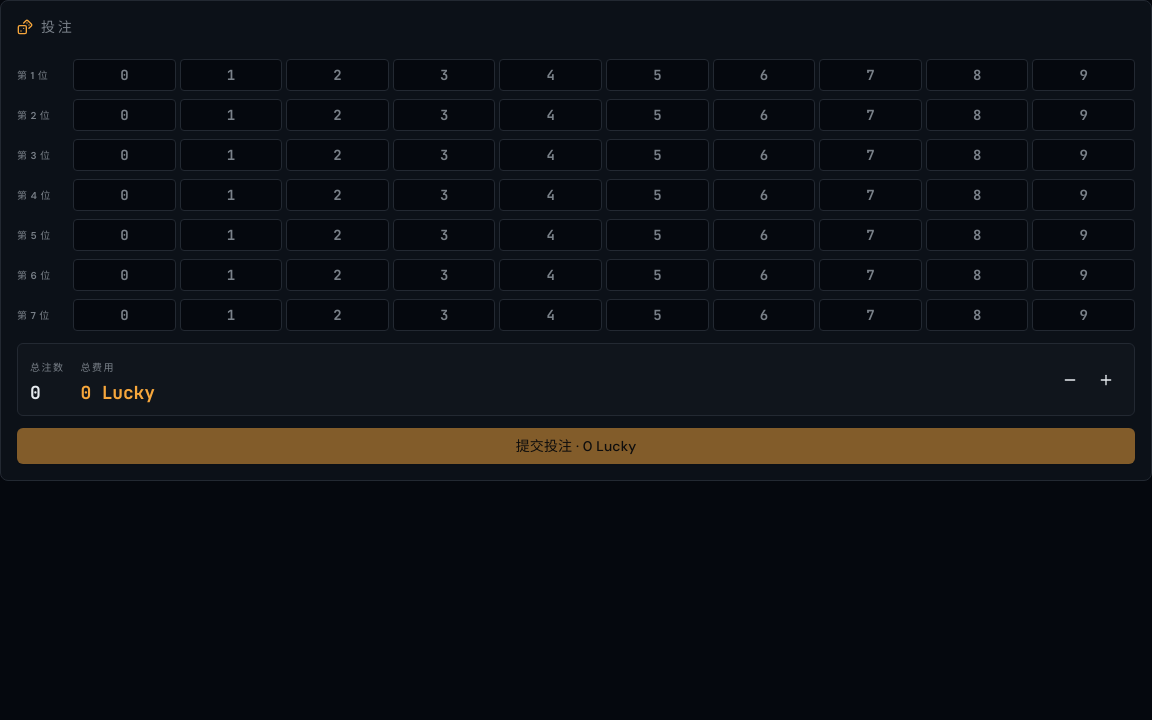
Scenario: BetForm complex-betting characterization (cap-independent invariants) › clears a filled selection back to zero tickets
This screenshot has width=1152, height=720.
Click the button with test id "bet.fill_button": (1106, 380) [1090, 364, 1122, 396]
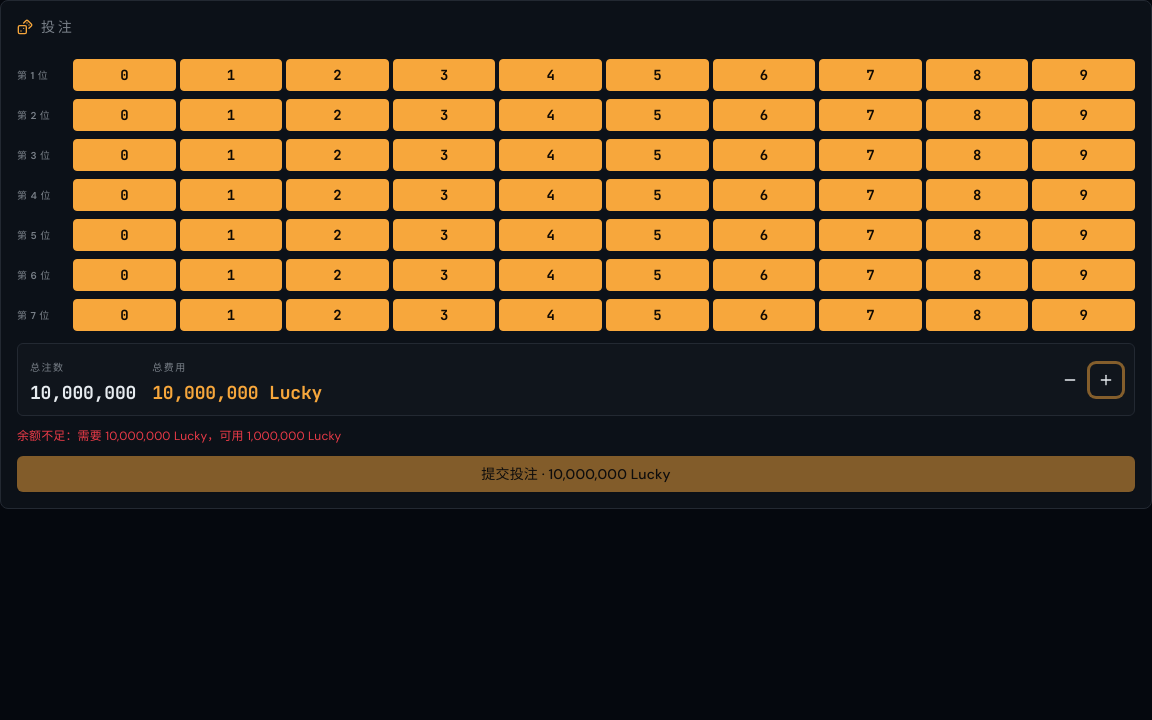
Click the button with test id "bet.clear_button": (1070, 380) [1054, 364, 1086, 396]
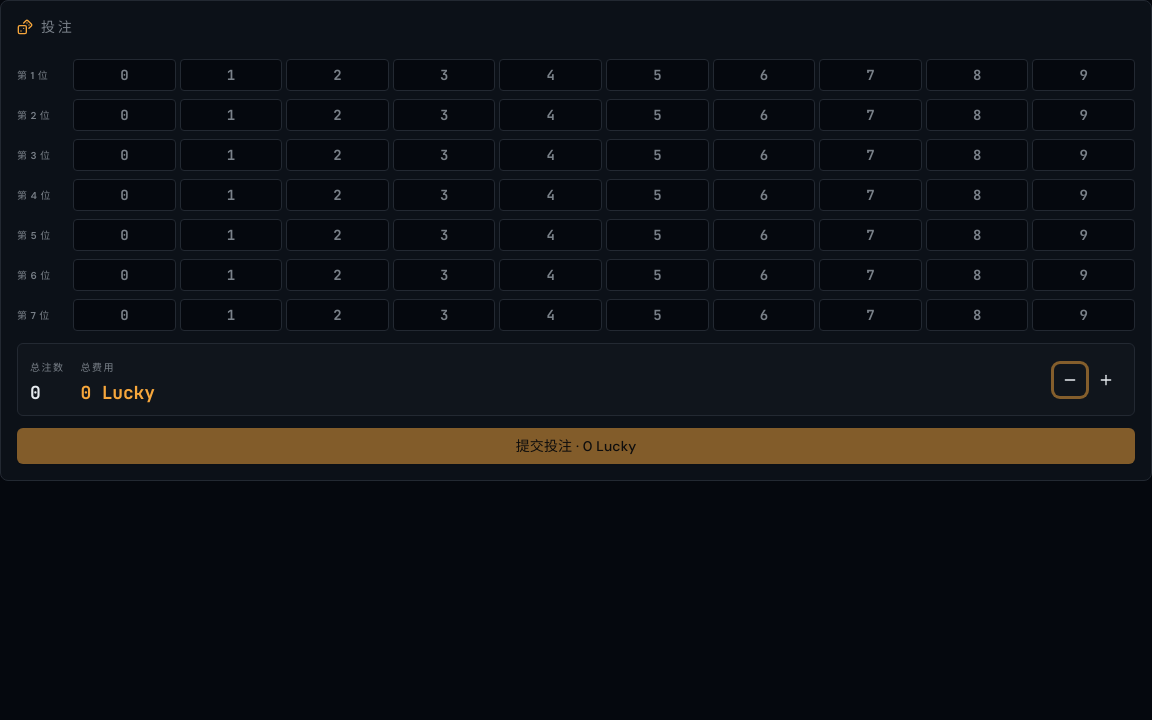
Check: the button with test id "bet.submit_button" is disabled, box [17, 428, 1135, 464]
Check: the text with test id "bet.ticket_count" reads "0", box [30, 381, 41, 404]
